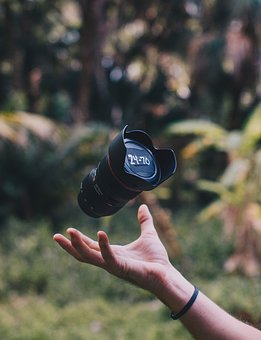palm: (114, 243, 171, 290)
